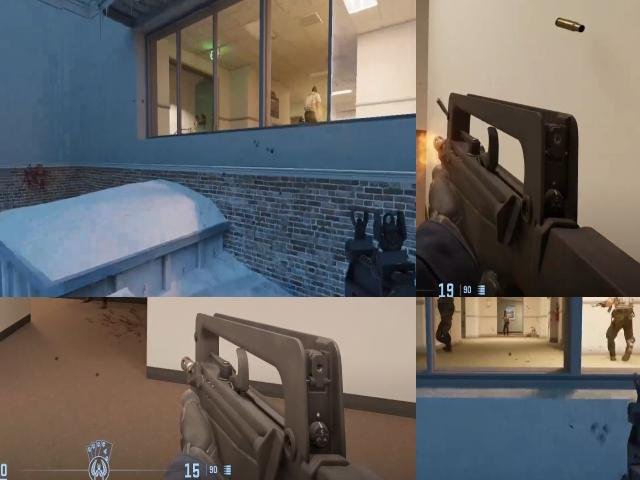CT: (435, 297, 453, 340)
T: (607, 297, 632, 346), (306, 87, 321, 124), (502, 308, 512, 331)
T-Head: (306, 84, 321, 100), (503, 310, 508, 315)
